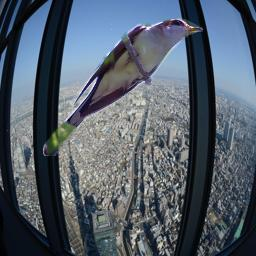Cuckoo: (43, 18, 203, 156)
